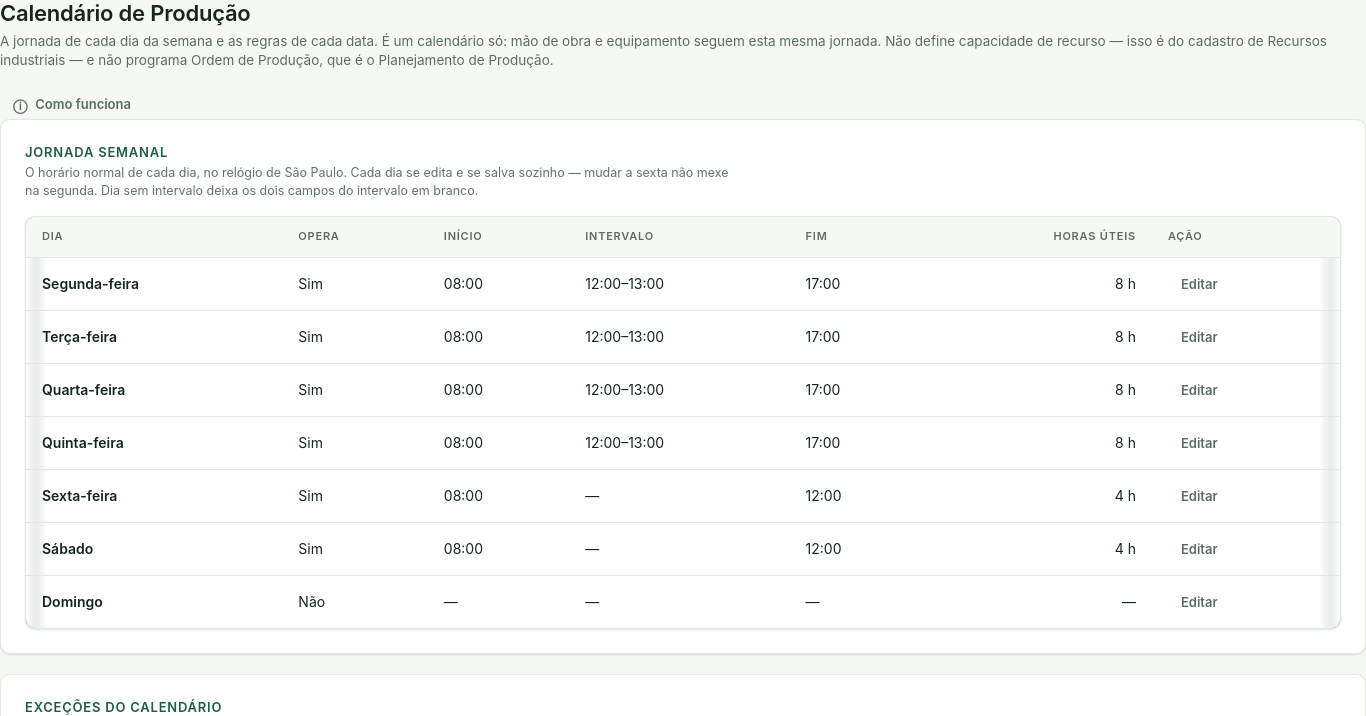
jornada semanal — sete linhas › salvar envia UMA linha — o dia e o horário dele — e confirma com o nome do dia
Click the 5th button "Editar".
click(1199, 496)  # box [1168,482,1231,510]
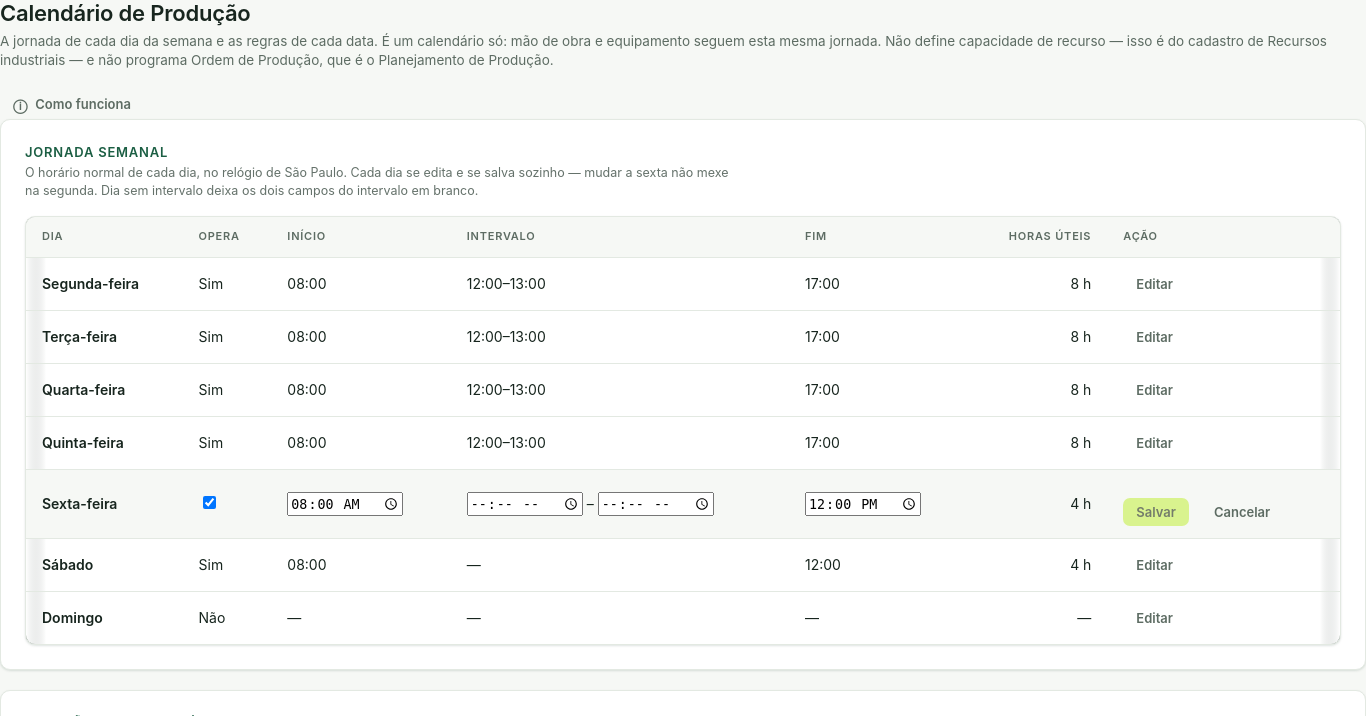
Replace the text in the time field named "Fim — Sexta-feira" with "11:00" at [863, 504], box [805,492,921,516]
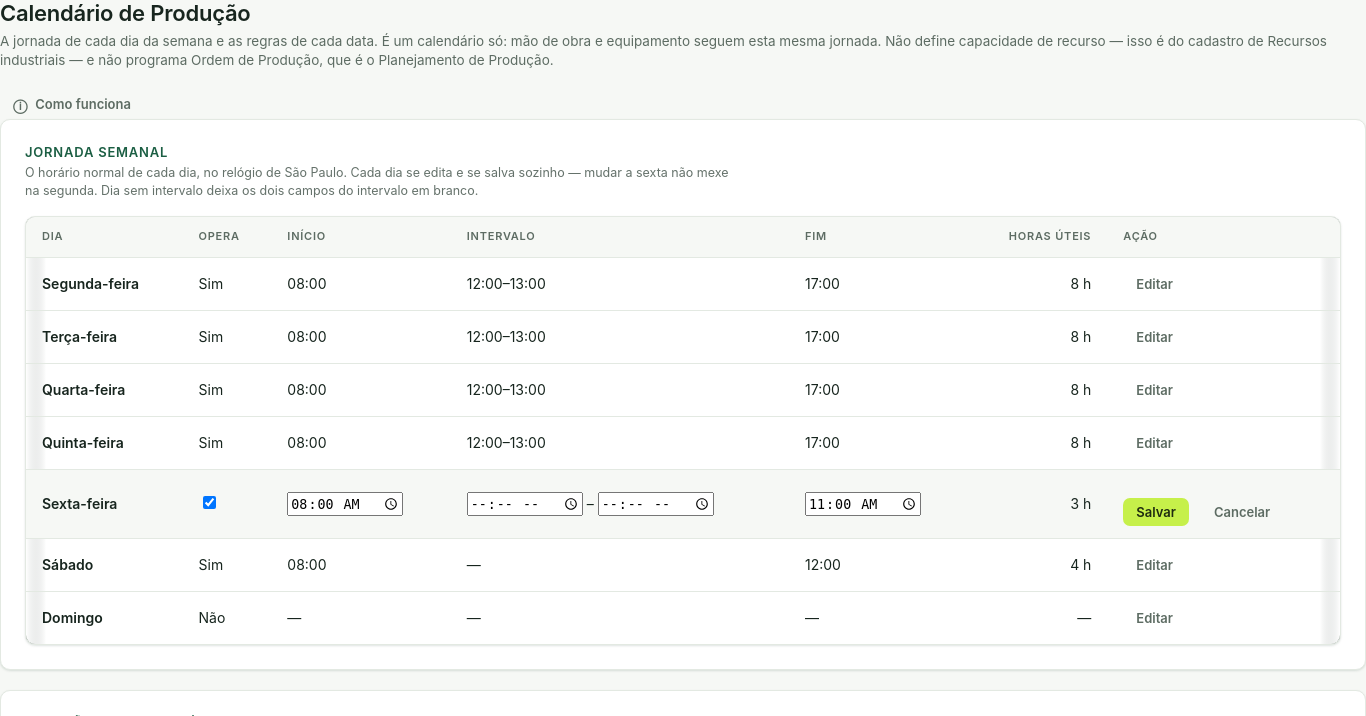
Click the button "Salvar".
click(1156, 512)  # box [1123,498,1189,526]
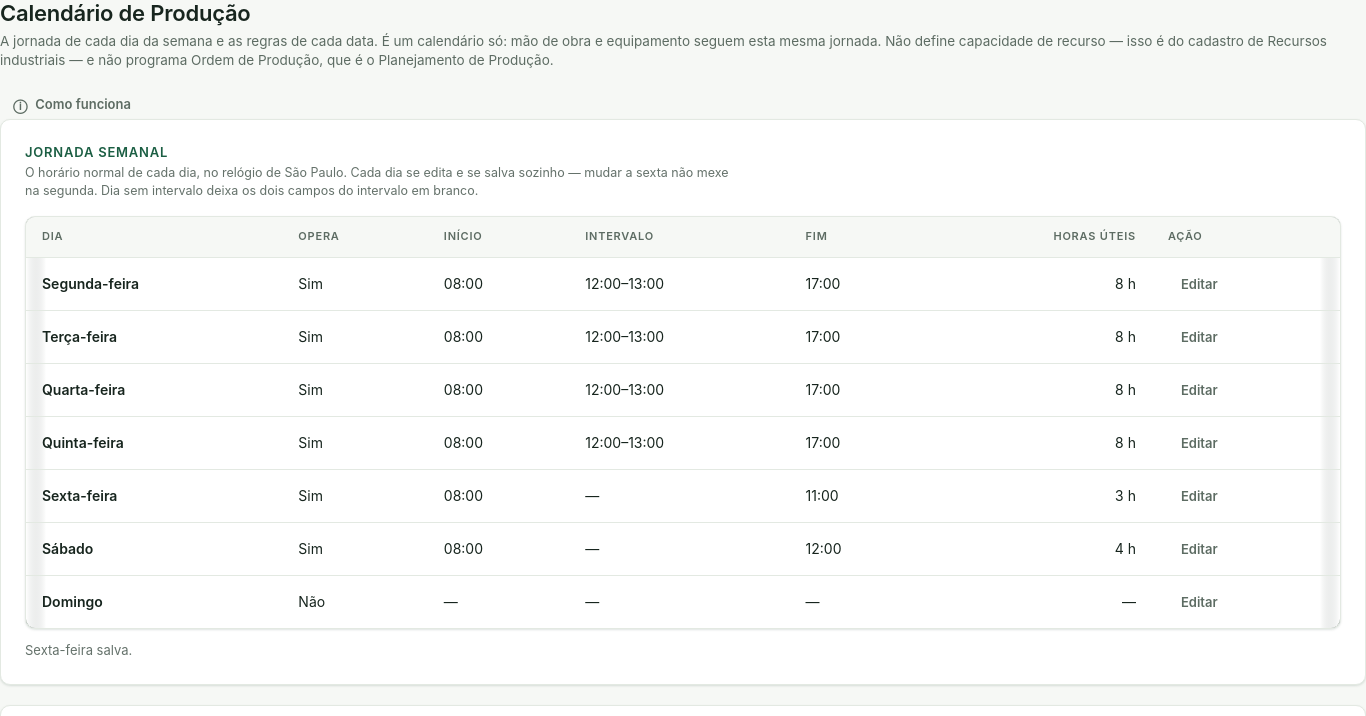
Expected: the text "11:00" is shown, [806,487,839,504]
